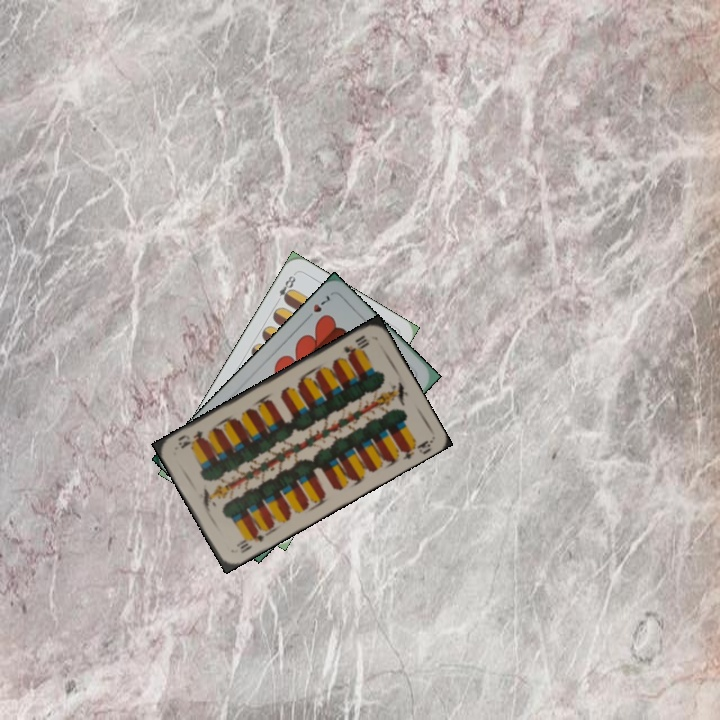E10: (338, 331, 372, 362), (232, 527, 267, 556)
E8: (275, 270, 298, 305)
H7: (302, 291, 335, 323)
